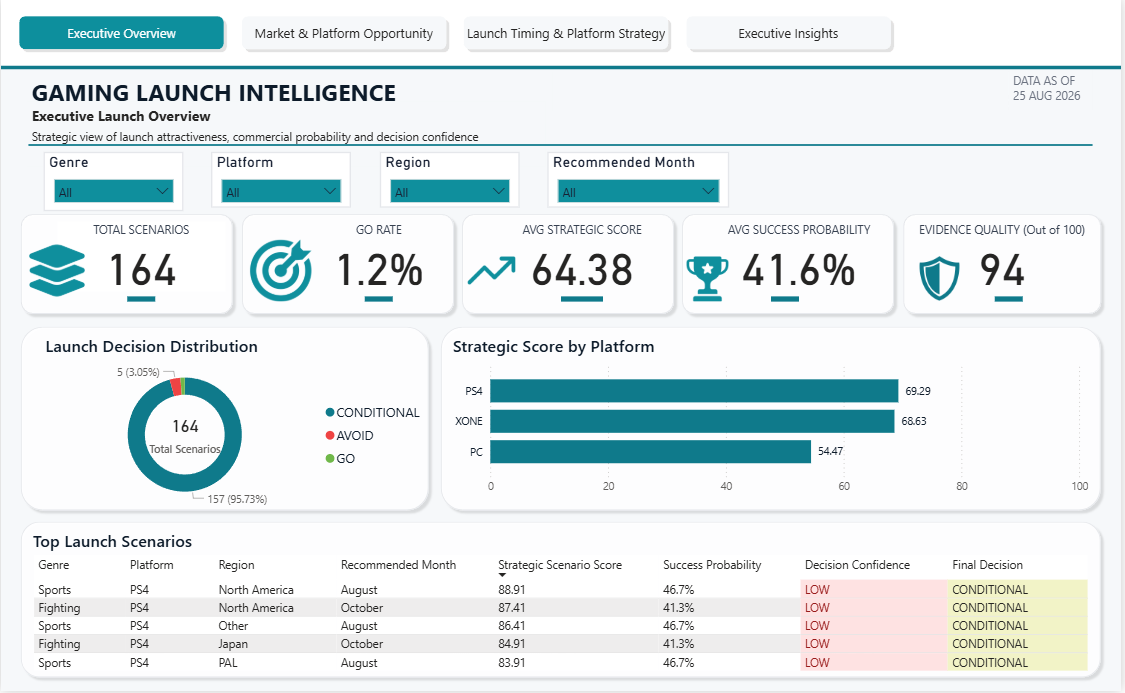

This screenshot's page, from the dashboard's own definition file:
{"tool":"powerbi","page":{"name":"Executive Overview","canvas":[1280,792],"ordinal":0},"visuals":[{"type":"textbox","box":[30,84,600,45],"z":0},{"type":"slicer","title":"Genre","fields":{"Values":["DimGenre.Genre"]},"box":[48,176,160,68],"z":0,"group":"g4"},{"type":"shape","box":[0,0,1280,80],"z":500,"group":"g5"},{"type":"slicer","title":"Recommended Month","fields":{"Values":["DimMonth.Month Name"]},"box":[624,176,208,64],"z":1000,"group":"g4"},{"type":"shape","box":[16,240,256,128],"z":1000},{"type":"shape","box":[16,368,480,224],"z":1000,"group":"g2"},{"type":"pageNavigator","box":[16,16,1008,48],"z":1001,"group":"g5"},{"type":"slicer","title":"Platform","fields":{"Values":["DimPlatform.Platform"]},"box":[240,176,160,64],"z":2000,"group":"g4"},{"type":"shape","box":[268,240,256,128],"z":2000},{"type":"slicer","title":"Region","fields":{"Values":["DimRegion.Region"]},"box":[432,176,160,64],"z":3000,"group":"g4"},{"type":"shape","box":[520,240,256,128],"z":3000},{"type":"shape","box":[1024,240,240,128],"z":4000},{"type":"shape","box":[772,240,256,128],"z":5000},{"type":"card","title":"TOTAL SCENARIOS","fields":{"Values":["_Measures.Total Scenarios"]},"box":[64,256,192,80],"z":6000},{"type":"shape","box":[0,72,1280,16],"z":7000,"group":"g5"},{"type":"card","title":"GO RATE","fields":{"Values":["_Measures.GO Rate"]},"box":[336,256,192,80],"z":7000},{"type":"card","title":"AVG STRATEGIC SCORE","fields":{"Values":["_Measures.Average Strategic Score"]},"box":[560,256,208,80],"z":8000},{"type":"card","title":"EVIDENCE QUALITY (Out of 100)","fields":{"Values":["_Measures.Average Evidence Quality"]},"box":[1040,256,208,80],"z":9000},{"type":"card","title":"AVG SUCCESS PROBABILITY","fields":{"Values":["_Measures.Average Success Probability"]},"box":[800,256,224,80],"z":10000},{"type":"shape","box":[16,592,1248,192],"z":10000,"group":"g3"},{"type":"shape","box":[496,368,768,224],"z":11000},{"type":"donutChart","title":"Launch Decision Distribution","fields":{"Category":["phase5_final_launch_decision.final_decision"],"Y":["CountNonNull(phase5_final_launch_decision.final_decision)"]},"box":[46,384,447,205],"z":11000,"group":"g1"},{"type":"tableEx","title":"Top Launch Scenarios","fields":{"Values":["phase5_final_launch_decision.genre","phase5_final_launch_decision.platform","phase5_final_launch_decision.region","DimMonth.Month Name","phase5_final_launch_decision.strategic_scenario_score","phase5_final_launch_decision.success_probability","phase5_final_launch_decision.decision_confidence","phase5_final_launch_decision.final_decision"]},"box":[32,608,1216,176],"z":11000,"group":"g3"},{"type":"textbox","box":[30,119,592,48],"z":12000},{"type":"group","id":"g1","title":"Group 2","box":[46,384,447,205],"z":12001,"group":"g2"},{"type":"shape","box":[144,320,32,48],"z":13000},{"type":"shape","box":[416,320,32,48],"z":14000},{"type":"shape","box":[640,320,48,48],"z":15000},{"type":"shape","box":[1136,320,32,48],"z":16000},{"type":"shape","box":[880,320,32,48],"z":17000},{"type":"textbox","box":[30,144,592,48],"z":18000},{"type":"shape","box":[32,160,1216,16],"z":19000},{"type":"textbox","box":[1152,80,96,48],"z":20000},{"type":"group","id":"g2","title":"Group 3","box":[16,368,480,224],"z":21000},{"type":"group","id":"g3","title":"Group 4","box":[16,592,1248,192],"z":22000},{"type":"clusteredBarChart","title":"Strategic Score by Platform","fields":{"Category":["phase5_scenario_score.platform"],"Y":["Avg(phase5_scenario_score.strategic_scenario_score)"]},"box":[512,384,736,192],"z":23000},{"type":"card","fields":{"Values":["_Measures.Total Scenarios"]},"box":[154,450,112,96],"z":24000},{"type":"group","id":"g4","title":"Group 5","box":[48,176,784,64],"z":25000},{"type":"image","box":[0,272,128,80],"z":26000},{"type":"image","box":[256,272,128,80],"z":27000},{"type":"image","box":[528,272,64,80],"z":28000},{"type":"image","box":[752,288,112,64],"z":29000},{"type":"image","box":[1008,288,128,64],"z":30000},{"type":"group","id":"g5","title":"Group 4","box":[0,0,1280,88],"z":30002}]}

Visuals, with their boxes in screenshot pixels (x1, y1, x2, y2), scaled from the page's 1280x792 canvas onto the 1125x693 screenshot:
textbox: l=26, t=74, r=554, b=113
"Genre" slicer: l=42, t=154, r=183, b=214
shape: l=0, t=0, r=1124, b=70
"Recommended Month" slicer: l=548, t=154, r=731, b=210
shape: l=14, t=210, r=239, b=322
shape: l=14, t=322, r=436, b=518
pageNavigator: l=14, t=14, r=900, b=56
"Platform" slicer: l=211, t=154, r=352, b=210
shape: l=236, t=210, r=461, b=322
"Region" slicer: l=380, t=154, r=520, b=210
shape: l=457, t=210, r=682, b=322
shape: l=900, t=210, r=1111, b=322
shape: l=679, t=210, r=904, b=322
"TOTAL SCENARIOS" card: l=56, t=224, r=225, b=294
shape: l=0, t=63, r=1124, b=77
"GO RATE" card: l=295, t=224, r=464, b=294
"AVG STRATEGIC SCORE" card: l=492, t=224, r=675, b=294
"EVIDENCE QUALITY (Out of 100)" card: l=914, t=224, r=1097, b=294
"AVG SUCCESS PROBABILITY" card: l=703, t=224, r=900, b=294
shape: l=14, t=518, r=1111, b=686
shape: l=436, t=322, r=1111, b=518
"Launch Decision Distribution" donutChart: l=40, t=336, r=433, b=515
"Top Launch Scenarios" tableEx: l=28, t=532, r=1097, b=686
textbox: l=26, t=104, r=547, b=146
"Group 2" group: l=40, t=336, r=433, b=515
shape: l=127, t=280, r=155, b=322
shape: l=366, t=280, r=394, b=322
shape: l=562, t=280, r=605, b=322
shape: l=998, t=280, r=1027, b=322
shape: l=773, t=280, r=802, b=322
textbox: l=26, t=126, r=547, b=168
shape: l=28, t=140, r=1097, b=154
textbox: l=1012, t=70, r=1097, b=112
"Group 3" group: l=14, t=322, r=436, b=518
"Group 4" group: l=14, t=518, r=1111, b=686
"Strategic Score by Platform" clusteredBarChart: l=450, t=336, r=1097, b=504
card - _Measures.Total Scenarios: l=135, t=394, r=234, b=478
"Group 5" group: l=42, t=154, r=731, b=210
image: l=0, t=238, r=112, b=308
image: l=225, t=238, r=338, b=308
image: l=464, t=238, r=520, b=308
image: l=661, t=252, r=759, b=308
image: l=886, t=252, r=998, b=308
"Group 4" group: l=0, t=0, r=1124, b=77
